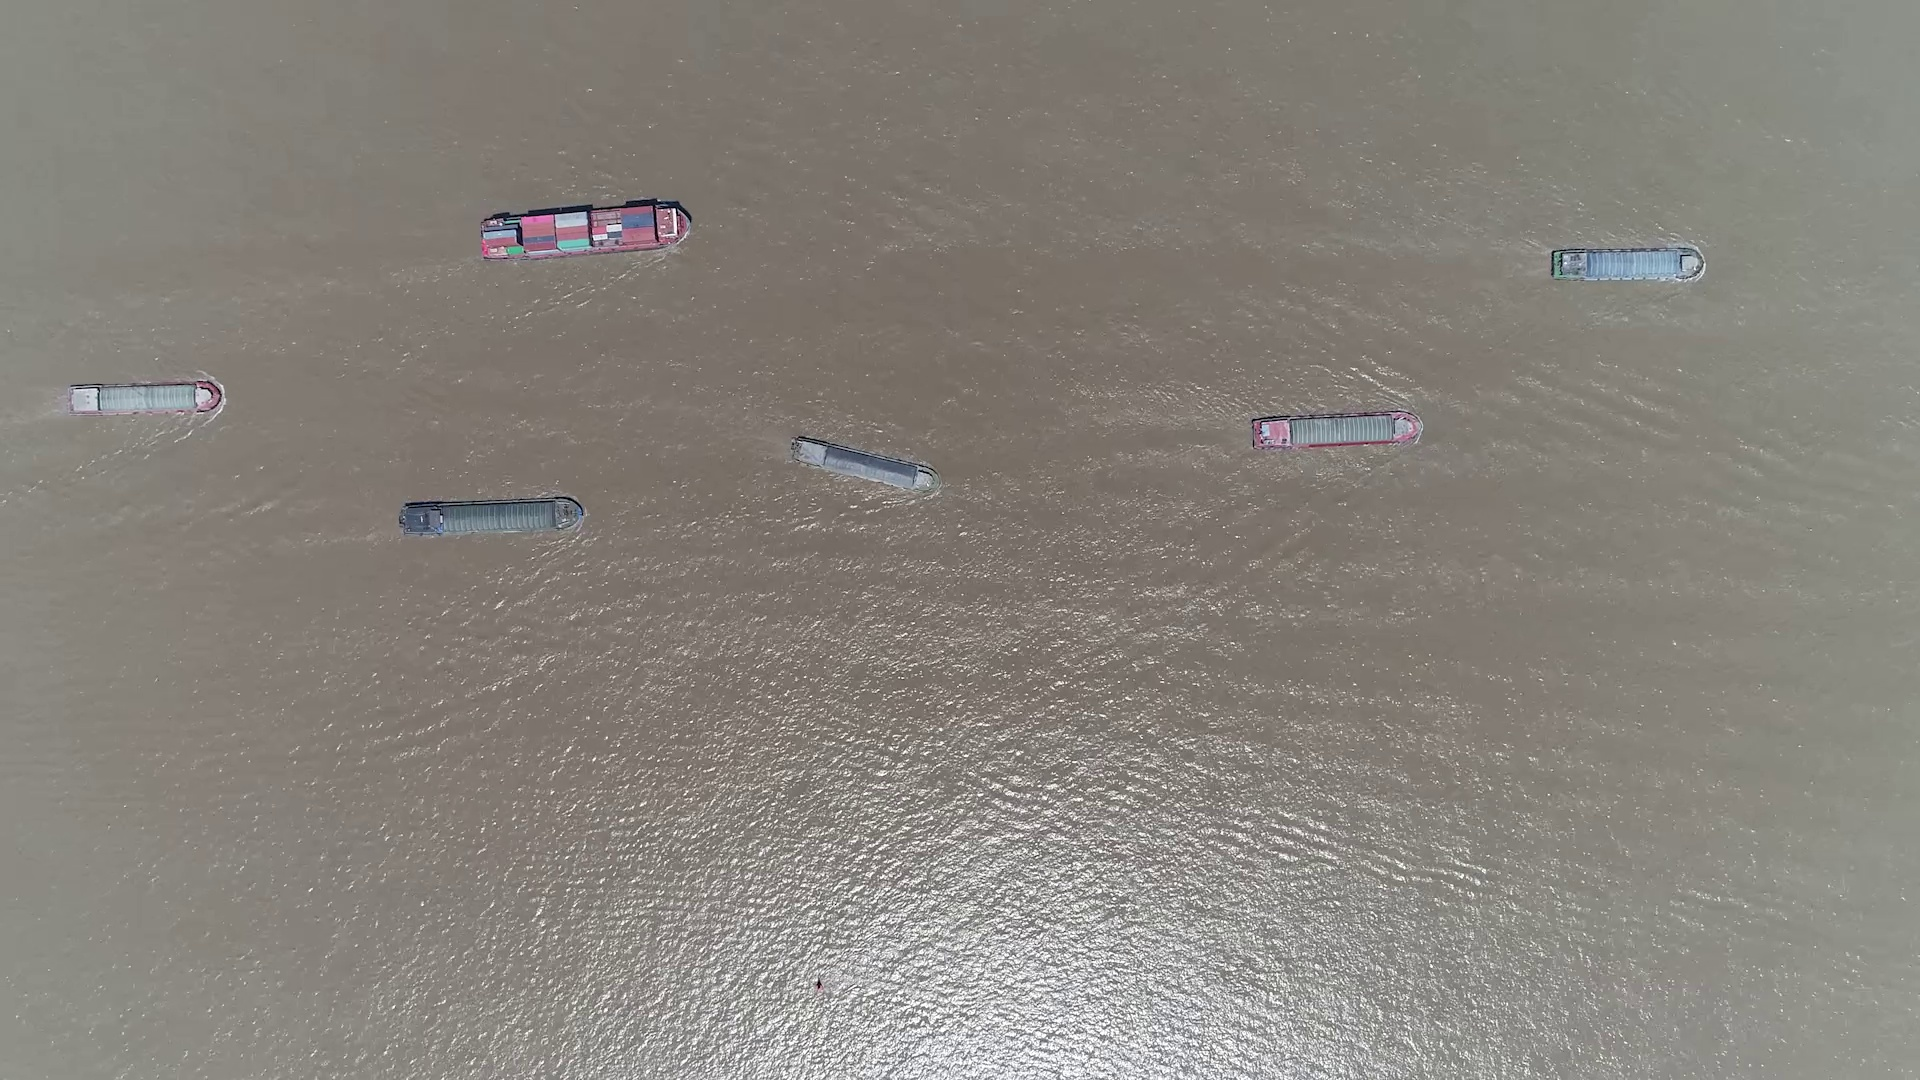ship: (480, 204, 691, 260), (790, 436, 938, 493), (398, 498, 582, 537), (1251, 410, 1422, 448), (65, 381, 222, 414), (1551, 248, 1702, 281)
